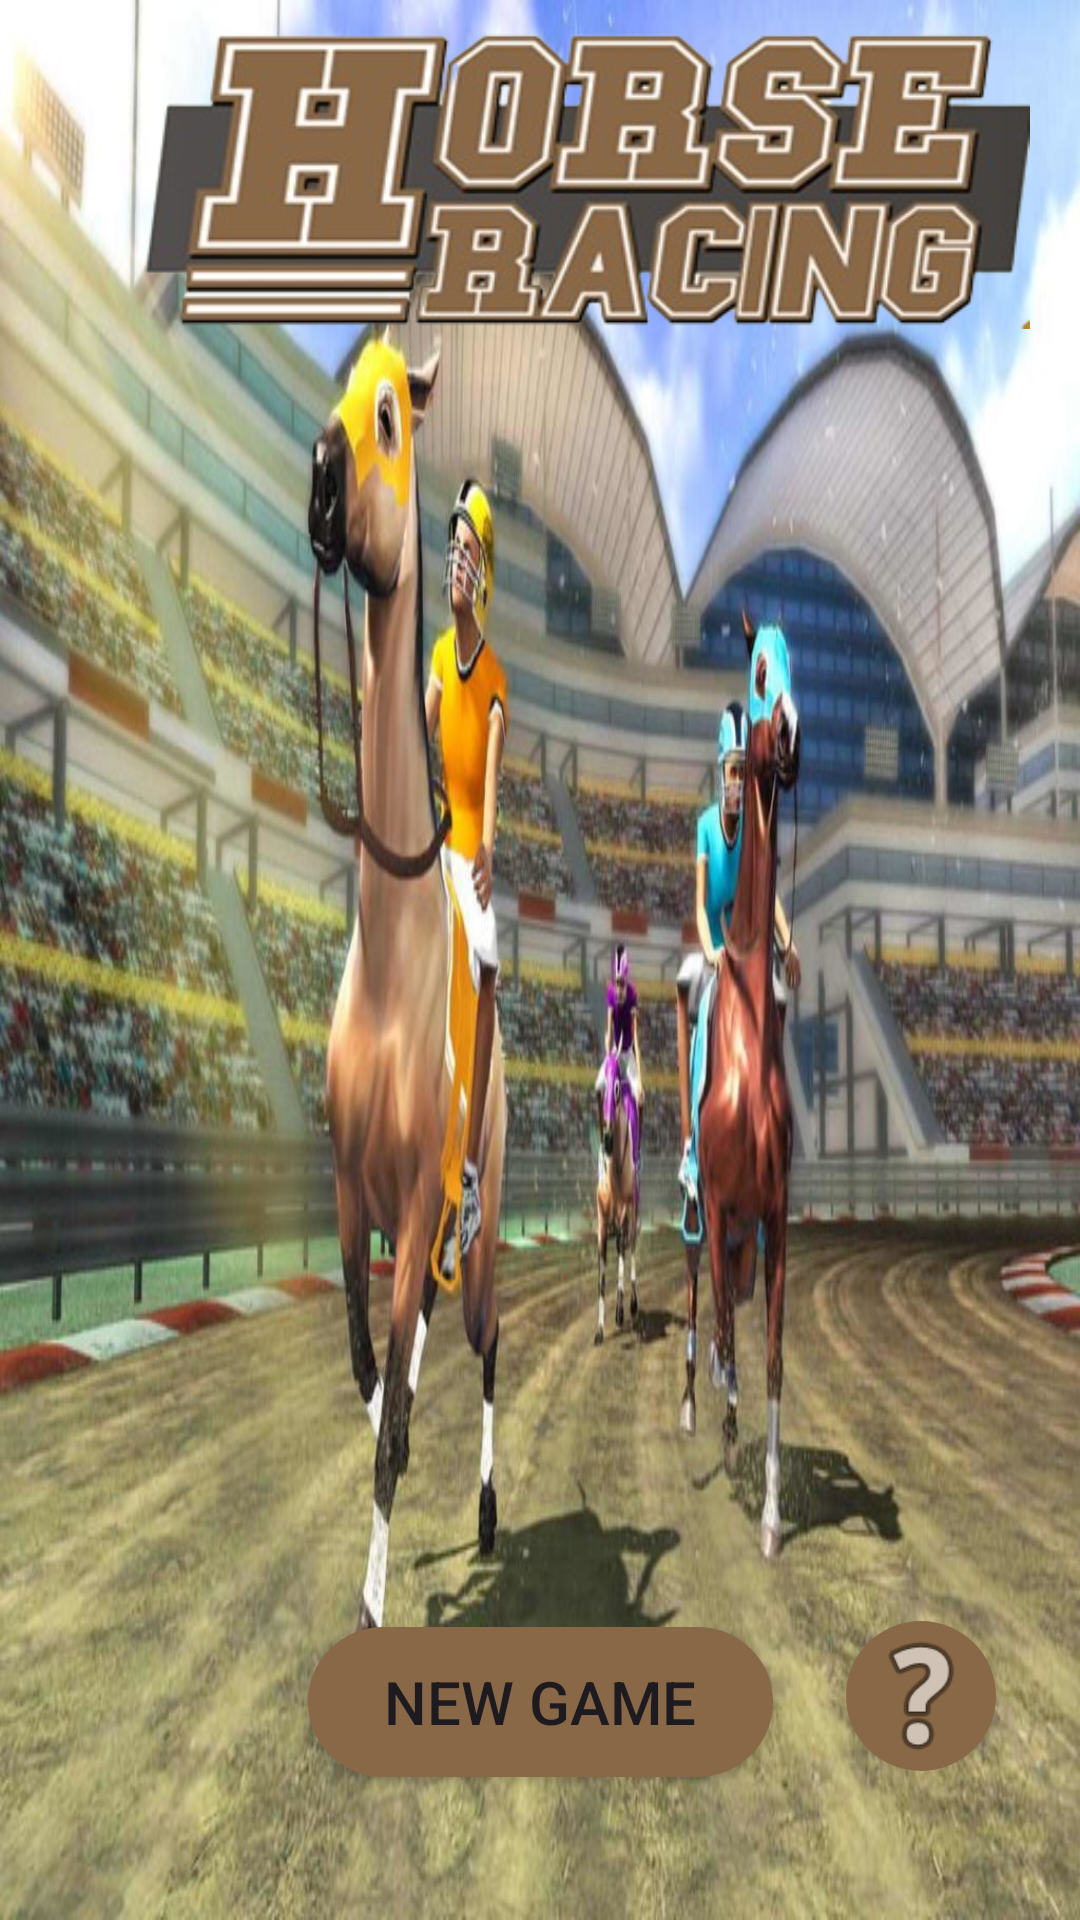

Where icons sit on this 1080 × 1920 app screen, as (x1, y1, x2, y2):
help: (846, 1621, 996, 1771)
